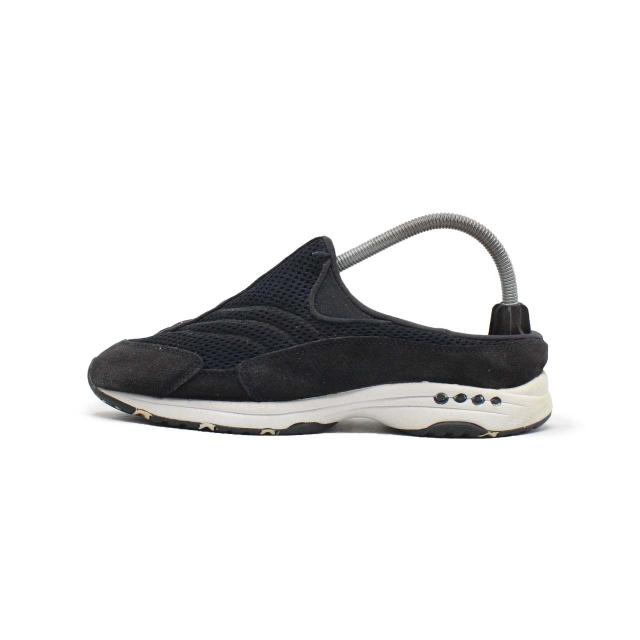heel: (459, 333, 546, 389)
midsole: (86, 359, 555, 438)
uppersole: (96, 234, 457, 401)
